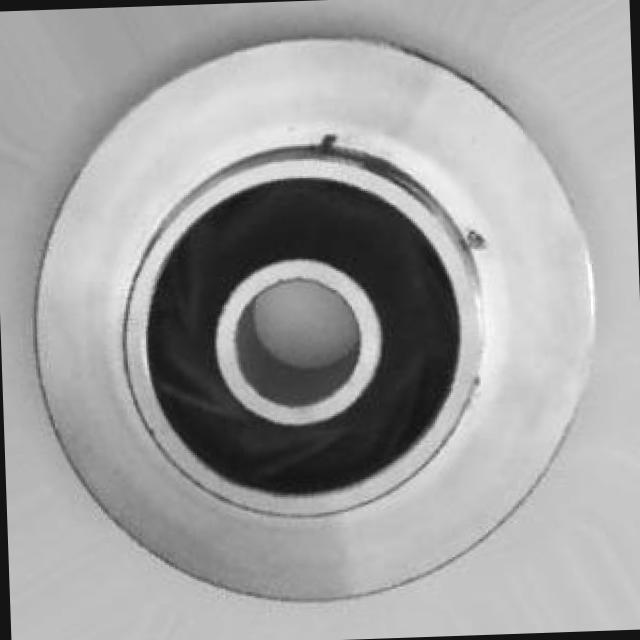Defect: (459, 217, 488, 266)
